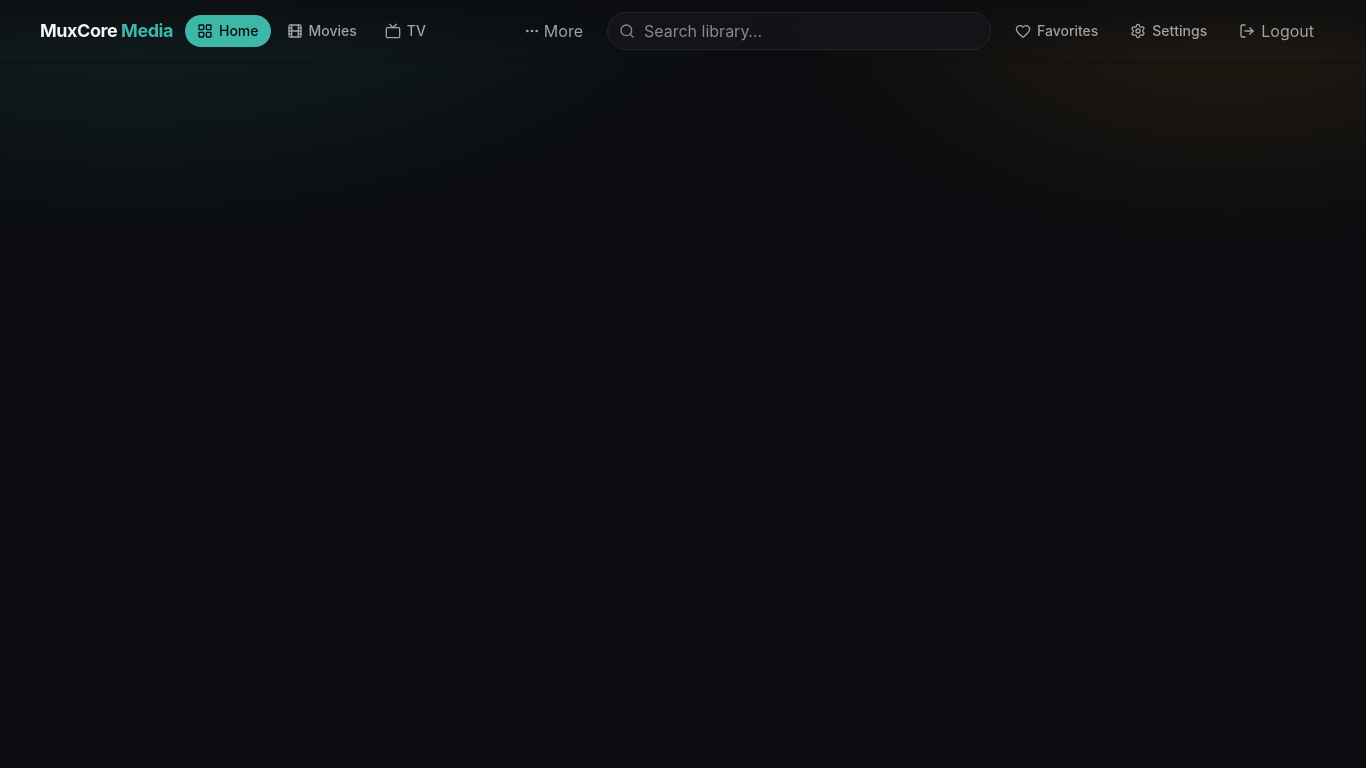
Test: Nav More menu › opens desktop overflow links when More is clicked
Click the button "More": (553, 31) top-left (512, 13), bottom-right (595, 49)
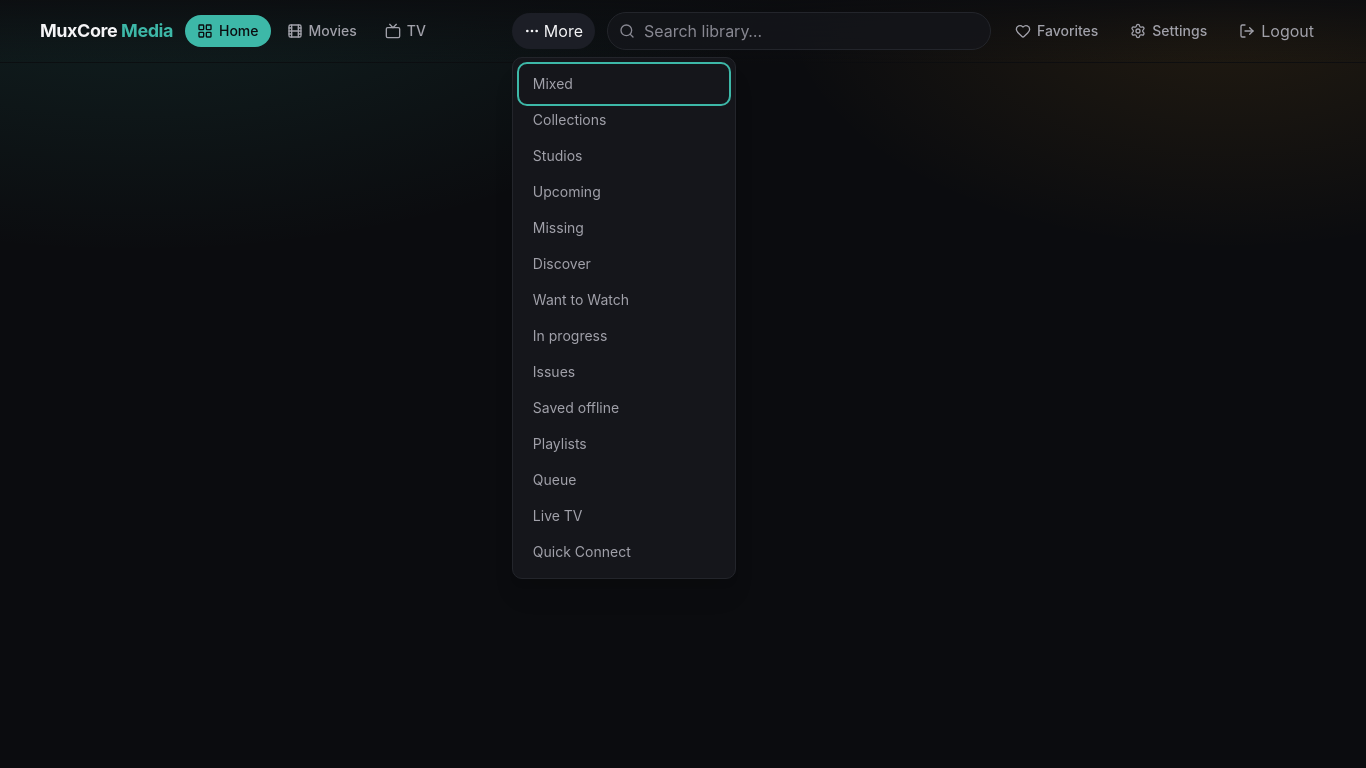
Check: the menu is shown, box top-left (512, 57), bottom-right (736, 579)
Press Escape in the menu item "Mixed", box top-left (533, 75), bottom-right (573, 92)
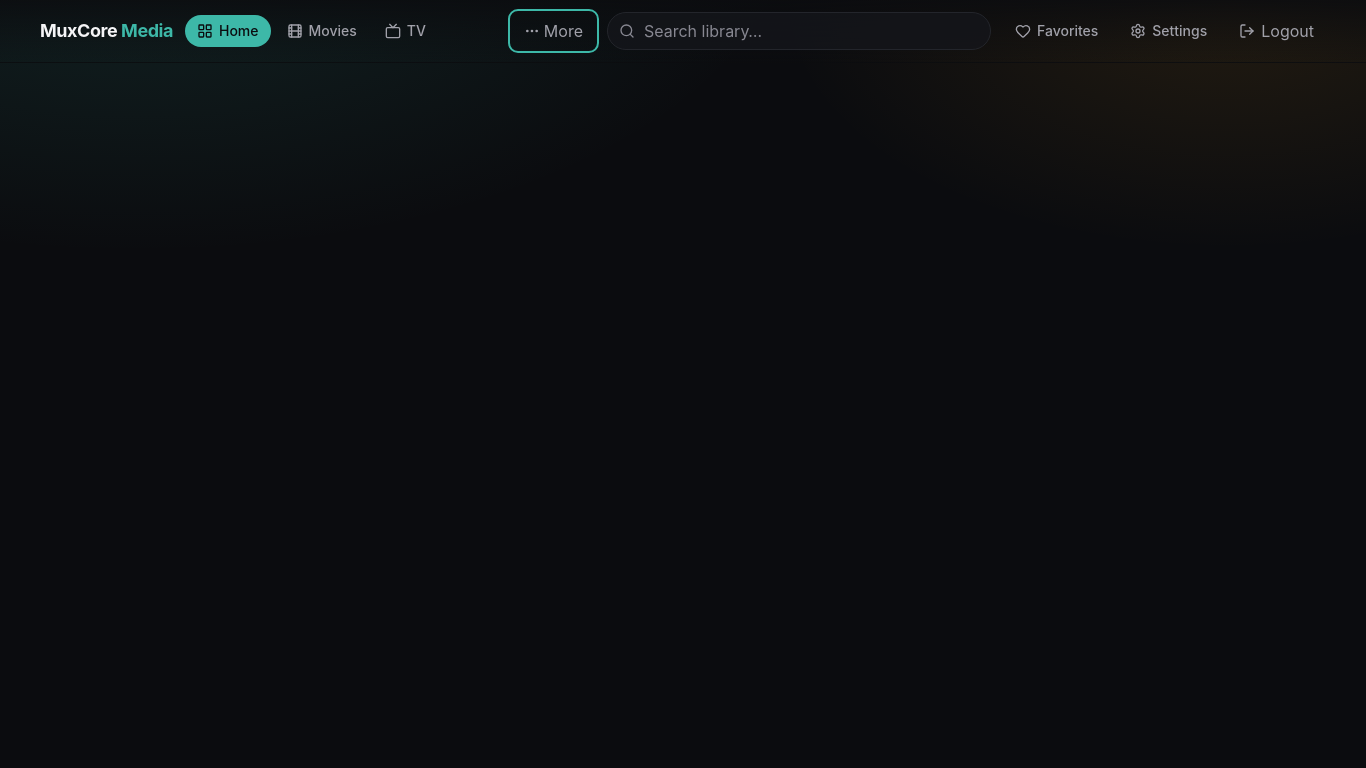
Check: the menu is gone
